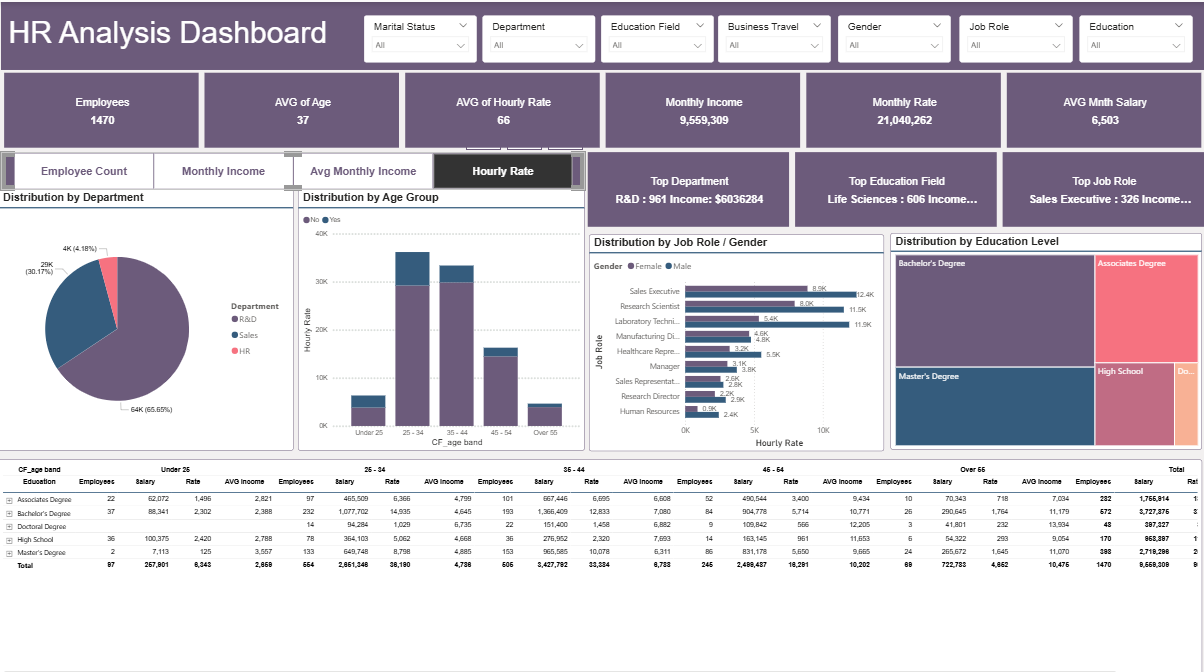

What the dashboard file says about the page in this screenshot:
{"tool":"powerbi","page":{"name":"HR","canvas":[1920,1080],"ordinal":0},"visuals":[{"type":"shape","box":[4.4,0,1915.6,108.1],"z":0},{"type":"cardVisual","fields":{"Data":["Calculation.Employees","Avg(HR data.Age)","Avg(HR data.Hourly Rate)","Sum(HR data.Monthly Income)","Sum(HR data.Monthly Rate)","Calculation.AVG Monthly Income"]},"box":[4.4,108.1,1915.8,129.1],"z":1000,"group":"g1"},{"type":"slicer","fields":{"Values":["HR data.Education"]},"box":[1721.3,21.9,179.7,74.5],"z":1000},{"type":"slicer","fields":{"Values":["HR data.Marital Status"]},"box":[582.3,21,179,74.4],"z":2000},{"type":"shape","title":"HR Analysis Dashboard","box":[17.5,21.9,634.2,68.7],"z":3000},{"type":"slicer","fields":{"Values":["HR data.Department"]},"box":[771.8,21,179,74.5],"z":4000},{"type":"cardVisual","fields":{"Data":["Calculation.Top Department1","Calculation.Top Education Field","Calculation.Top Job Role"]},"box":[932.9,233.8,990.2,128.8],"z":5000},{"type":"slicer","fields":{"Values":["HR data.Education Field"]},"box":[958.8,21,179,74.5],"z":6000},{"type":"columnChart","title":"Distribution by Age Group","fields":{"Y":["Calculation.Hourly Rate"],"Category":["HR data.CF_age band"],"Series":["HR data.Attrition"]},"box":[477.2,298.2,455.7,415.1],"z":7000},{"type":"slicer","fields":{"Values":["HR data.Business Travel"]},"box":[1145.8,21,179,74.5],"z":8000},{"type":"slicer","fields":{"Values":["HR data.Job Role"]},"box":[1528.4,21.9,179.7,74.5],"z":9000},{"type":"slicer","fields":{"Values":["HR data.Gender"]},"box":[1335.5,21.9,179,74.5],"z":10000},{"type":"clusteredBarChart","title":"Distribution by Job Role / Gender ","fields":{"Y":["Calculation.Hourly Rate"],"Category":["HR data.Job Role"],"Series":["HR data.Gender"]},"box":[941,369.7,469,344.8],"z":11000},{"type":"pieChart","title":"Distribution by Department","fields":{"Y":["Calculation.Hourly Rate"],"Category":["HR data.Department"]},"box":[0,298.2,470,415.1],"z":12000},{"type":"treemap","title":"Distribution by Education Level","fields":{"Values":["Calculation.Hourly Rate"],"Group":["HR data.Education"]},"box":[1420.3,368.2,495.3,344.8],"z":13000},{"type":"pivotTable","fields":{"Values":["Calculation.Employees","Calculation.Monthly Income","Calculation.Hourly Rate","Calculation.AVG Monthly Income"],"Rows":["HR data.Education","HR data.Job Role","HR data.Marital Status","HR data.Employee Number"],"Columns":["HR data.CF_age band"]},"box":[0,727.7,1915.6,352.1],"z":14000},{"type":"slicer","fields":{"Values":["Parameter.Parameter"]},"box":[4.8,238.6,928.1,59.6],"z":15000},{"type":"group","id":"g1","title":"Group 3","box":[4.4,108.1,1917.1,130],"z":16000}]}

Visuals, with their boxes in screenshot pixels (x1, y1, x2, y2), scaled from the page's 1920x1080 canvas onto the 1204x672 screenshot:
shape: bbox=(3, 0, 1203, 67)
cardVisual - Calculation.Employees x Avg(HR data.Age): bbox=(3, 67, 1203, 148)
slicer - HR data.Education: bbox=(1079, 14, 1192, 60)
slicer - HR data.Marital Status: bbox=(365, 13, 477, 59)
"HR Analysis Dashboard" shape: bbox=(11, 14, 409, 56)
slicer - HR data.Department: bbox=(484, 13, 596, 59)
cardVisual - Calculation.Top Department1 x Calculation.Top Education Field: bbox=(585, 145, 1203, 226)
slicer - HR data.Education Field: bbox=(601, 13, 713, 59)
"Distribution by Age Group" columnChart: bbox=(299, 186, 585, 444)
slicer - HR data.Business Travel: bbox=(719, 13, 831, 59)
slicer - HR data.Job Role: bbox=(958, 14, 1071, 60)
slicer - HR data.Gender: bbox=(837, 14, 950, 60)
"Distribution by Job Role / Gender " clusteredBarChart: bbox=(590, 230, 884, 445)
"Distribution by Department" pieChart: bbox=(0, 186, 295, 444)
"Distribution by Education Level" treemap: bbox=(891, 229, 1201, 444)
pivotTable - Calculation.Employees x Calculation.Monthly Income: bbox=(0, 453, 1201, 671)
slicer - Parameter.Parameter: bbox=(3, 148, 585, 186)
"Group 3" group: bbox=(3, 67, 1203, 148)
